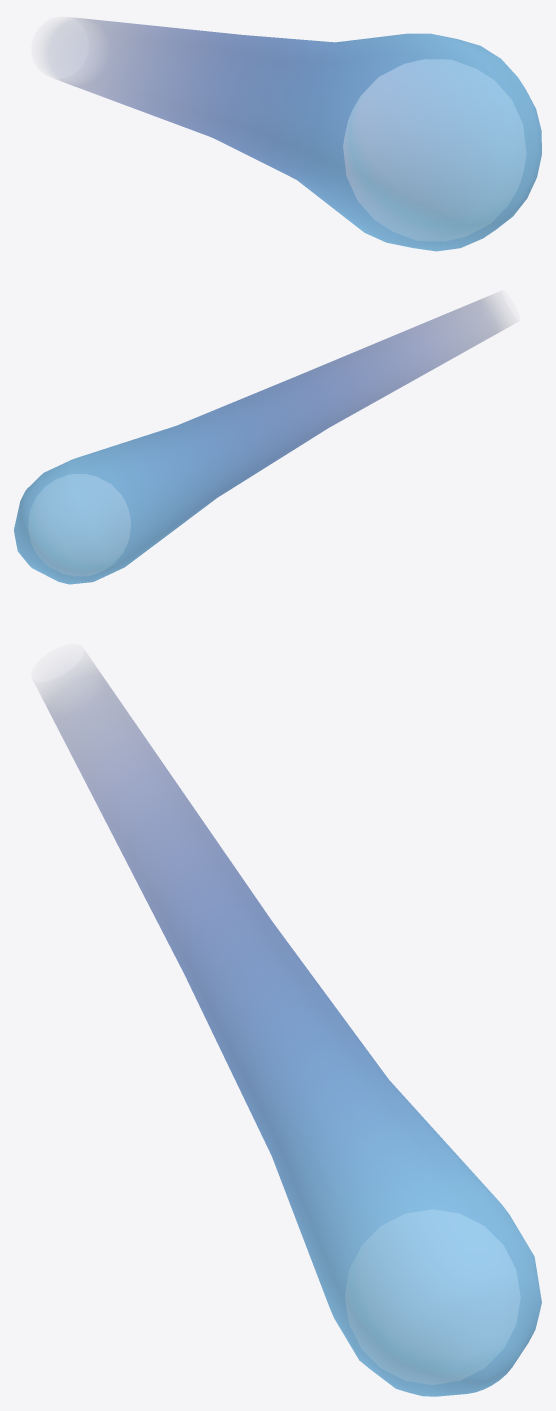
File: Comet.glb
3 renders of one model, top to bottom at view 1: azimuth 30°, elevation 25°; view 2: azimuth 150°, elevation 25°; view 3: azimuth 270°, elevation 25°, orthographic. The views are drawn at different scales.
Parts seen in each view (by area): view 1: comet_trail, comet; view 2: comet_trail, comet; view 3: comet_trail, comet.
Part boxes in pixels (left/top/right/bottom): comet_trail: left=48, top=18, right=541, bottom=251; comet: left=343, top=59, right=525, bottom=240; comet_trail: left=14, top=295, right=508, bottom=584; comet: left=28, top=474, right=130, bottom=575; comet_trail: left=41, top=663, right=541, bottom=1396; comet: left=345, top=1210, right=519, bottom=1384.
Bounding box in the file's own units: 1.27 × 0.8852 × 0.8507.
Materials: 2 (1 with a texture image).
